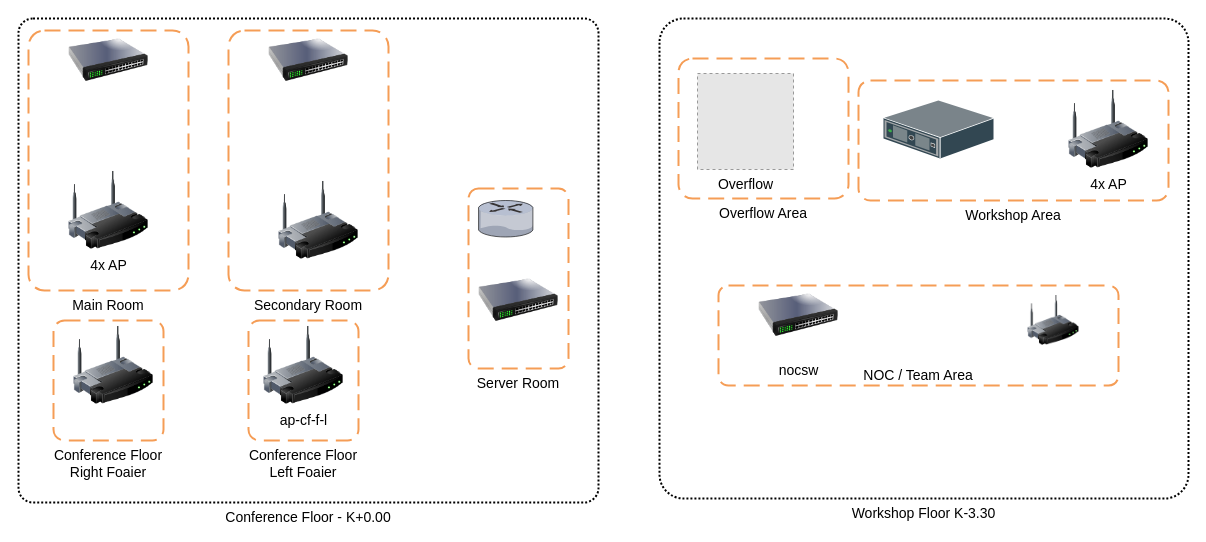
Image size: 1206x542. Some labels were removed from this diagram. Grey dashed boxes stand in for pictures. Here are the shapes that lost their labels. From the top down, the centre of each, then its label:
pixel 108 60: VidSW-mr
pixel 308 60: VidSW-sr
pixel 938 129: 2x UserSW
pixel 318 220: 2x AP
pixel 518 300: CoreSW
pixel 1053 320: ap-ws-team
pixel 113 365: ap-cf-f-r
